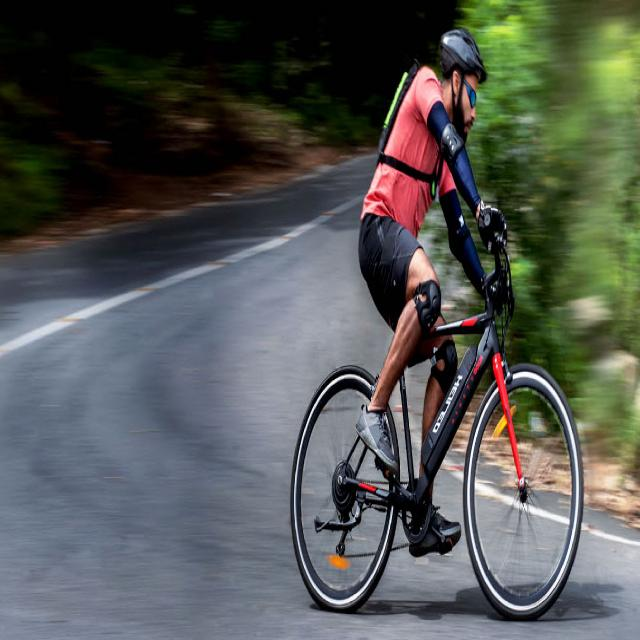bicycle: (291, 28, 582, 621)
